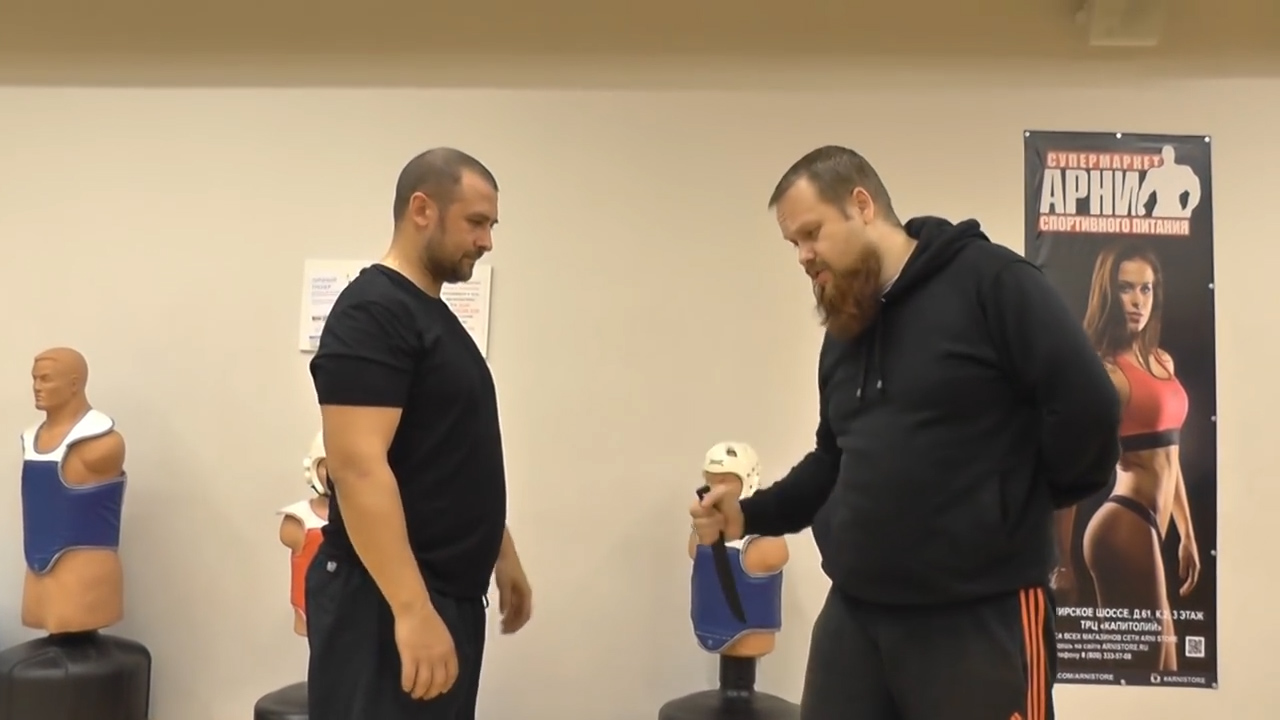knife: (687, 480, 749, 627)
